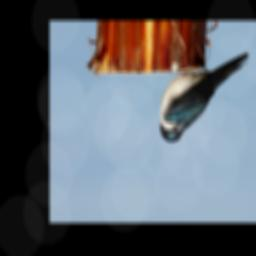Swallow: (159, 51, 251, 144)
